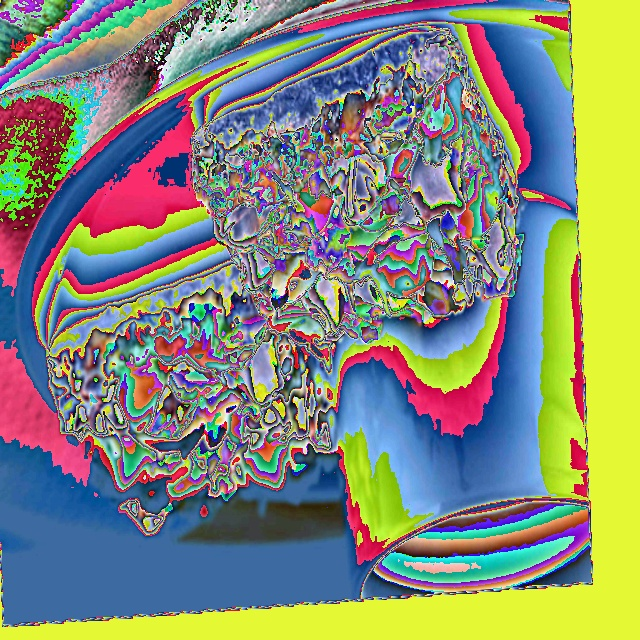background: (48, 27, 523, 535), (215, 94, 589, 594)
